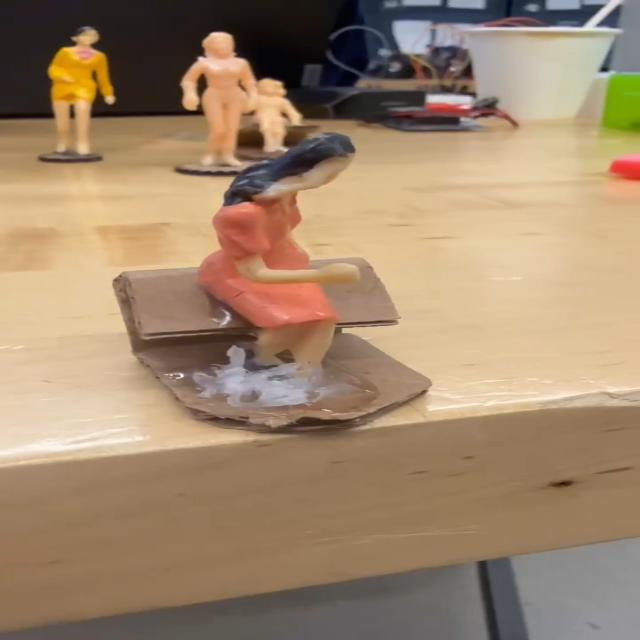Authorized: (196, 132, 363, 388)
